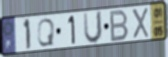1: (22, 18, 33, 52), (67, 14, 77, 46)
B: (109, 8, 130, 43)
Q: (36, 17, 56, 47)
U: (82, 10, 103, 45)
X: (131, 7, 150, 40)
